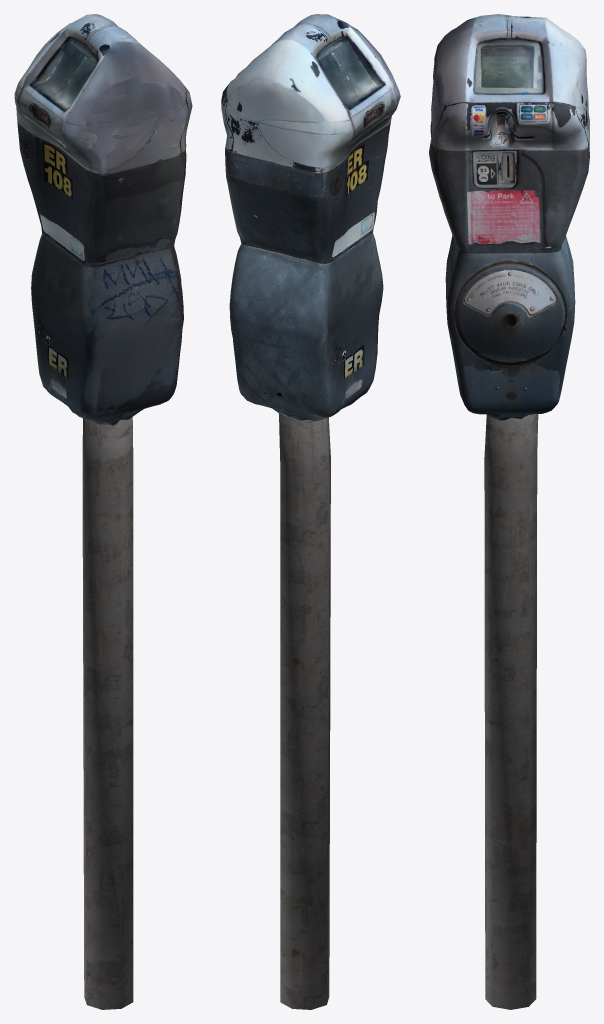
The model's file is parking meter.fbx.
3 renders of one model, left to right at view 1: azimuth 30°, elevation 25°; view 2: azimuth 150°, elevation 25°; view 3: azimuth 270°, elevation 25°, orthographic.
Parts seen in each view (by area): view 1: ParkingMeterSingle.002; view 2: ParkingMeterSingle.002; view 3: ParkingMeterSingle.002.
Boxes of the visible parts, x1,y1,x2,y2 form: ParkingMeterSingle.002: (14, 14, 192, 1009); ParkingMeterSingle.002: (221, 14, 400, 1009); ParkingMeterSingle.002: (429, 14, 589, 1009).
Bounding box in the file's own units: 21.79 × 152 × 22.56.
Materials: 1 (1 with a texture image).
